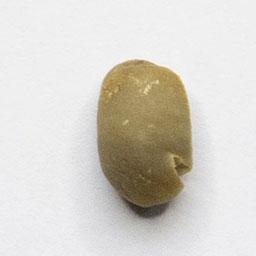peaberry: (94, 56, 197, 213)
